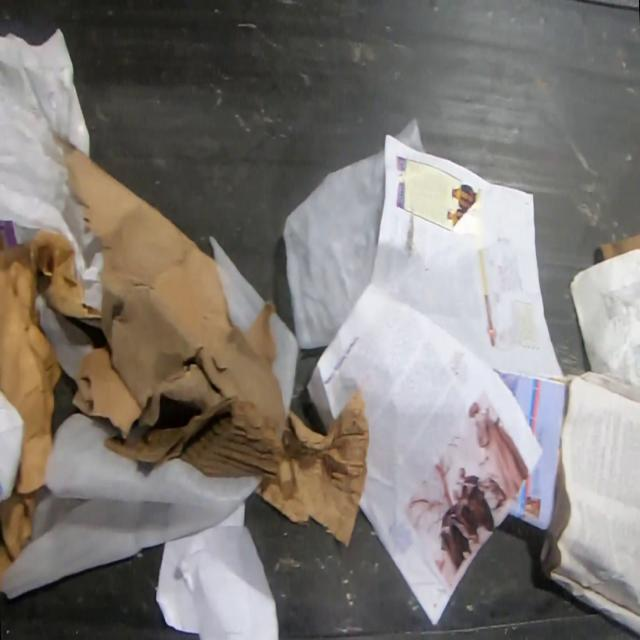cardboard: (57, 131, 291, 486), (0, 228, 102, 494), (254, 392, 369, 549), (0, 488, 42, 580), (599, 235, 639, 263)
